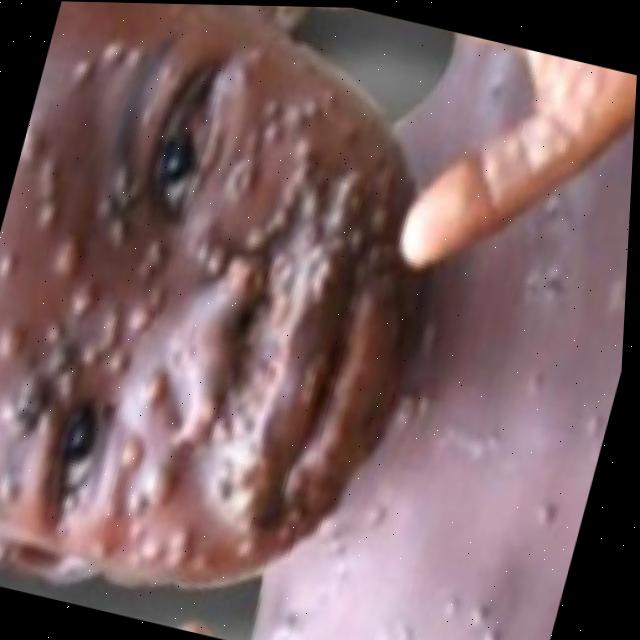Eczema: (0, 5, 640, 640)
